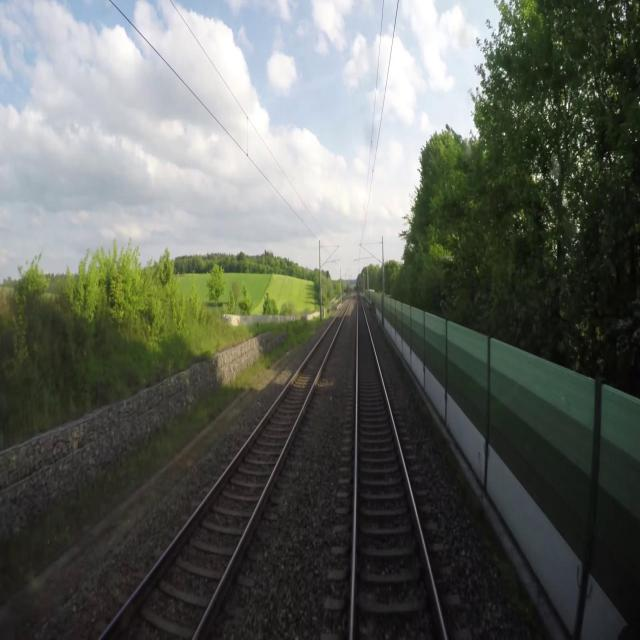rail-track: (104, 299, 349, 639), (355, 293, 443, 639)
